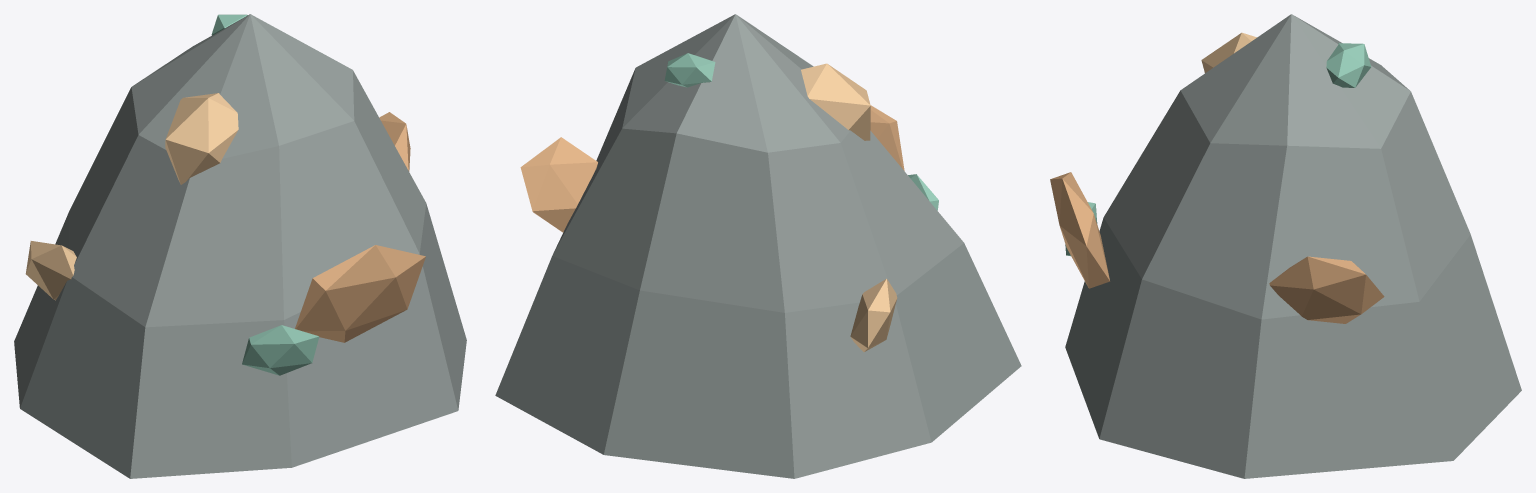
The model's file is FTF_Resource_CopperOre_Node.glb.
3 views of the same model, side by side, from view 1: azimuth 30°, elevation 25°; view 2: azimuth 150°, elevation 25°; view 3: azimuth 270°, elevation 25° (orthographic). The views are drawn at different scales.
Visible parts, largest first — view 1: OreRockBody, OreVeinFront, OreVeinUpper, CopperPatinaFront, OreVeinLeft, OreVeinRight; view 2: OreRockBody, OreVeinRight, OreVeinUpper, OreVeinLeft, CopperPatinaTop, OreVeinFront; view 3: OreRockBody, OreVeinRight, OreVeinFront, CopperPatinaTop, OreVeinUpper.
Boxes of the visible parts, x1,y1,x2,y2 form: OreRockBody: (14,14,466,478); OreVeinFront: (295,245,425,342); OreVeinUpper: (165,93,238,184); CopperPatinaFront: (242,325,319,375); OreVeinLeft: (25,241,76,300); OreVeinRight: (379,112,410,171); OreRockBody: (495,14,1021,478); OreVeinRight: (520,137,597,232); OreVeinUpper: (801,63,870,140); OreVeinLeft: (850,278,897,351); CopperPatinaTop: (664,53,715,87); OreVeinFront: (870,105,904,170); OreRockBody: (1065,14,1521,478); OreVeinRight: (1269,256,1384,323); OreVeinFront: (1050,172,1109,288); CopperPatinaTop: (1326,43,1371,87); OreVeinUpper: (1201,32,1256,72).
Size of the model in its own units: 1.13 by 0.95 by 1.11.
